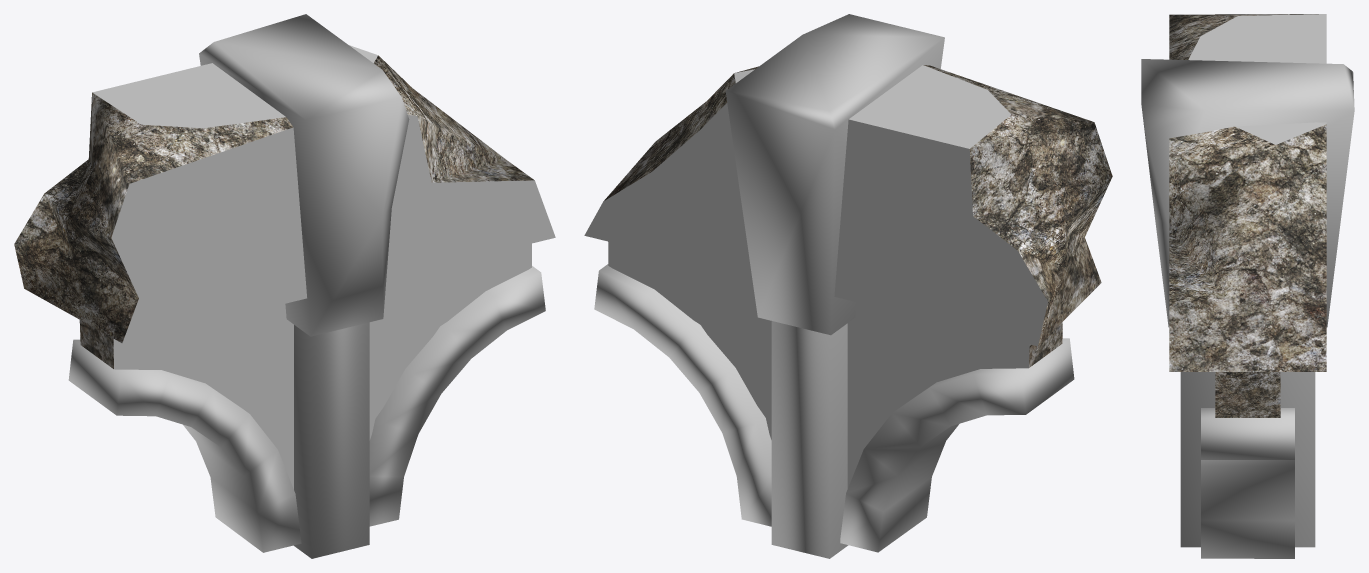
Rendered from Ruins_16.fbx.
The picture shows the model from 3 angles, left to right: view 1: azimuth 30°, elevation 25°; view 2: azimuth 150°, elevation 25°; view 3: azimuth 270°, elevation 25°; orthographic projection. The views are drawn at different scales.
Visible parts, largest first — view 1: polySurface2926; view 2: polySurface2926; view 3: polySurface2926.
Boxes of the visible parts, x1,y1,x2,y2 form: polySurface2926: (14, 14, 555, 558); polySurface2926: (584, 14, 1112, 558); polySurface2926: (1141, 14, 1354, 558).
Size of the model in its own units: 2.64 by 2.49 by 1.07.
